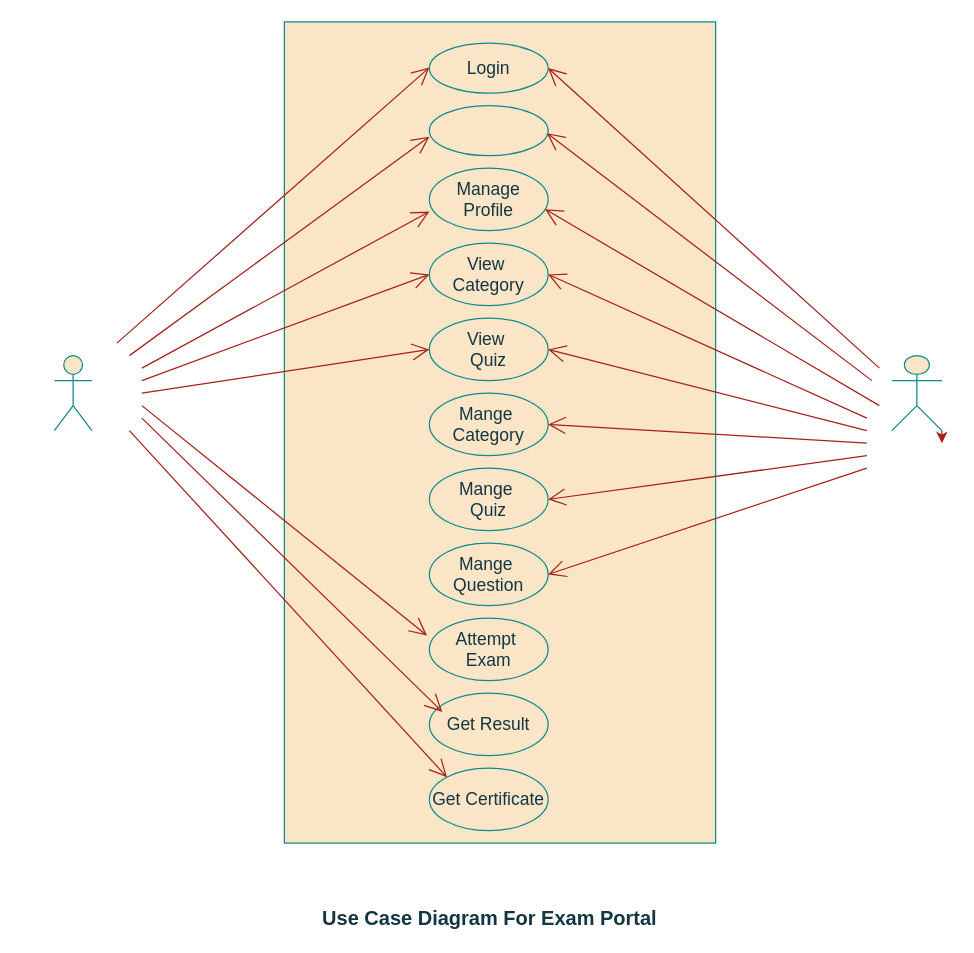
Image size: 974x953. Some labels were removed from this diagram. The centre of each missing label's shape, as x and y in pixels:
"Admin" goes at pixel 916 392.
"Logout" goes at pixel 488 130.
"Normal User" goes at pixel 72 392.
